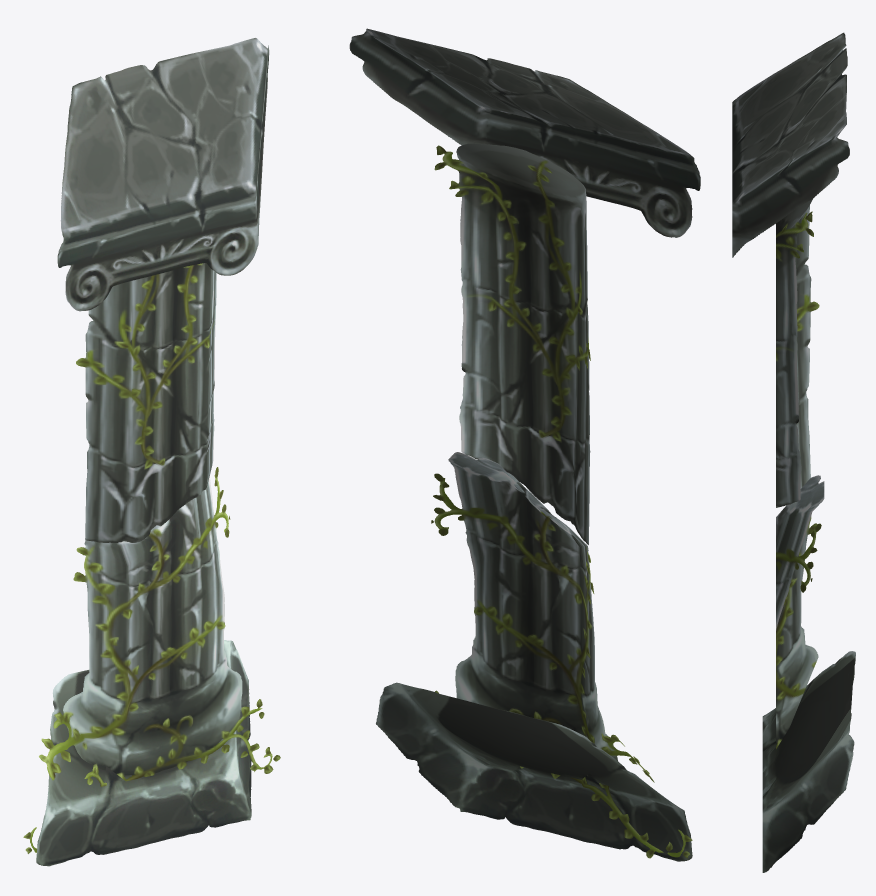
Rendered from Column.FBX.
3 renders of one model, left to right at view 1: azimuth 30°, elevation 25°; view 2: azimuth 150°, elevation 25°; view 3: azimuth 270°, elevation 25°, orthographic. The views are drawn at different scales.
Visible parts, largest first — view 1: Column Top, Column Base; view 2: Column Top, Column Base; view 3: Column Top, Column Base.
Boxes of the visible parts, x1,y1,x2,y2 form: Column Top: (57,38,269,542); Column Base: (23,467,280,866); Column Top: (349,28,700,544); Column Base: (376,452,692,861); Column Top: (732,32,849,507); Column Base: (762,475,855,872).
Bounding box in the file's own units: 472 × 170 × 1155.
